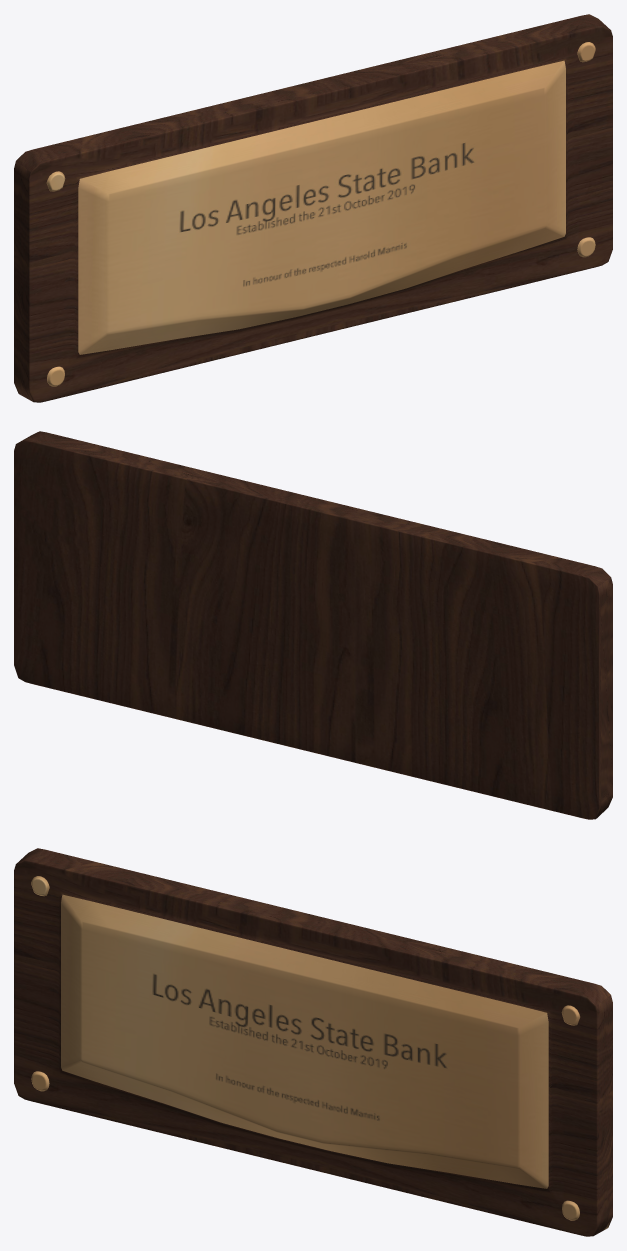
File: plaque.fbx
3 views of the same model, one above another, from view 1: azimuth 30°, elevation 25°; view 2: azimuth 150°, elevation 25°; view 3: azimuth 330°, elevation 25° (orthographic).
Visible parts, largest first — view 1: Plaque_HighRes; view 2: Plaque_HighRes; view 3: Plaque_HighRes.
Boxes of the visible parts, x1,y1,x2,y2 form: Plaque_HighRes: (14,14,612,402); Plaque_HighRes: (14,431,612,819); Plaque_HighRes: (14,848,612,1236).
Bounding box in the file's own units: 38 × 15.06 × 2.33.
2 materials, 2 textured.
